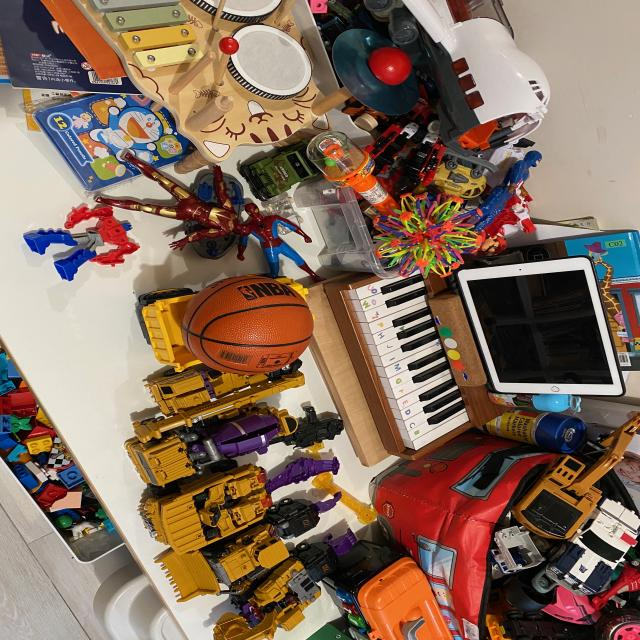Ball: (169, 266, 328, 383)
